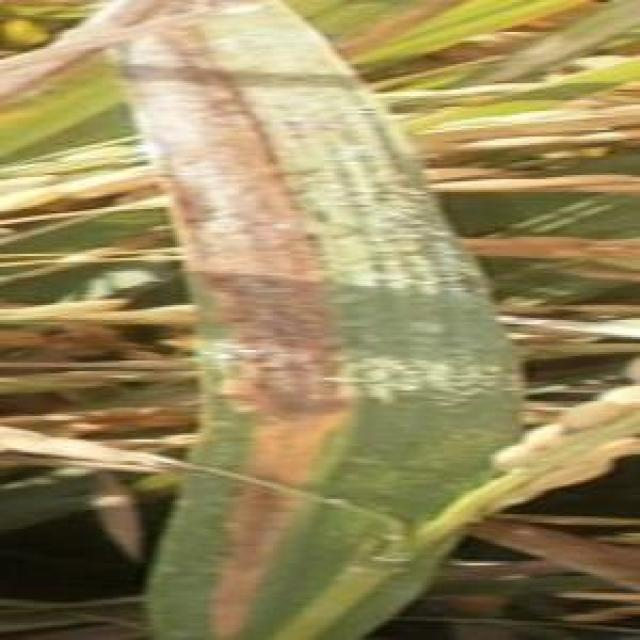Bacterial_Blight: (121, 39, 343, 386), (211, 382, 346, 640), (0, 0, 209, 95)
